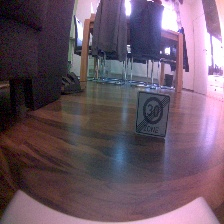dreisiger_zone_ende: (136, 90, 170, 140)
